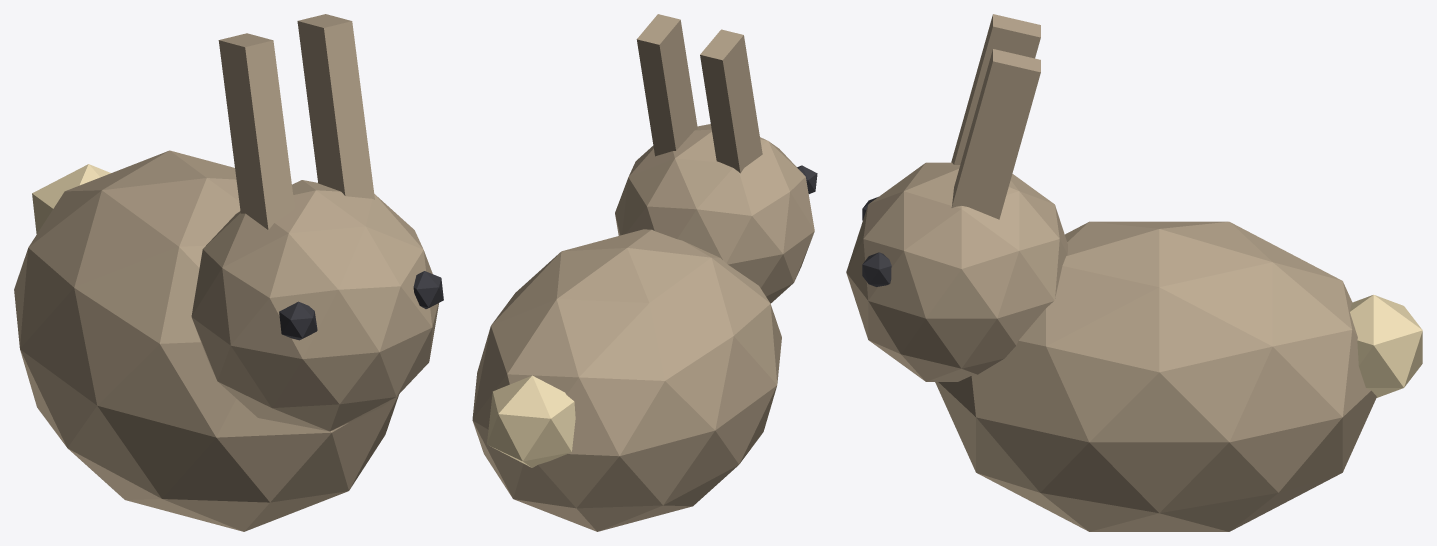
Rendered from rabbit_2.glb.
The picture shows the model from 3 angles, left to right: view 1: azimuth 30°, elevation 25°; view 2: azimuth 150°, elevation 25°; view 3: azimuth 270°, elevation 25°; orthographic projection. The views are drawn at different scales.
Parts seen in each view (by area): view 1: body, head, fur_#B7A58C, iron, tail; view 2: body, head, fur_#B7A58C, tail; view 3: body, head, fur_#B7A58C, tail, iron.
Part boxes in pixels (x1,y1,x2,y2): body: (14, 150, 398, 531); head: (191, 180, 438, 431); fur_#B7A58C: (218, 14, 374, 229); iron: (279, 271, 443, 340); tail: (32, 164, 110, 233); body: (472, 229, 781, 531); head: (615, 124, 814, 303); fur_#B7A58C: (636, 14, 762, 173); tail: (487, 375, 575, 467); body: (935, 221, 1376, 531); head: (846, 162, 1067, 381); fur_#B7A58C: (951, 14, 1040, 219); tail: (1350, 294, 1422, 397); iron: (862, 197, 891, 286).
Size of the model in its own units: 0.1883 by 0.326 by 0.3498.
